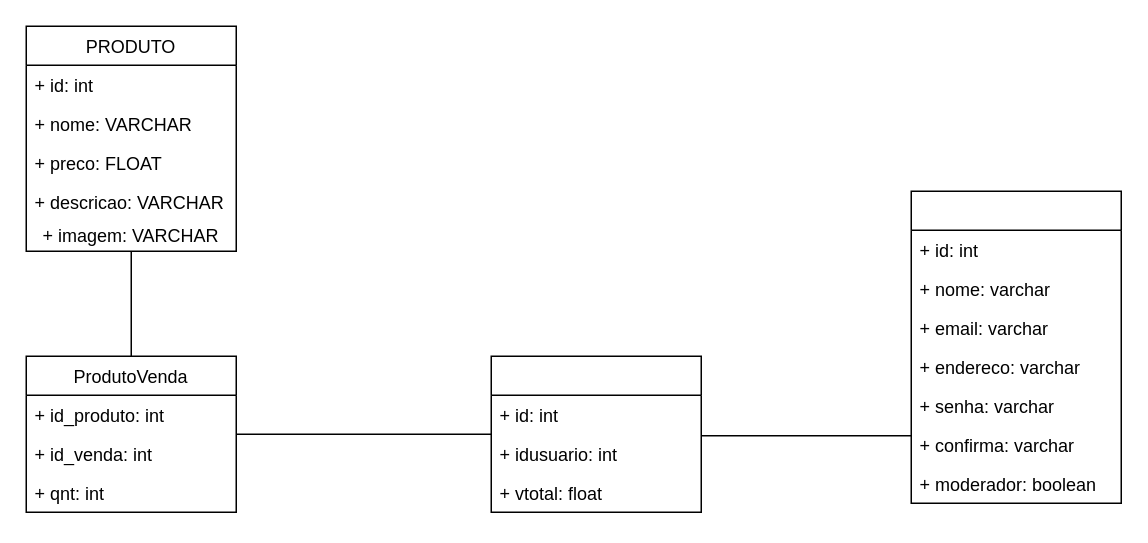
The diagram is 1148 pixels wide and 543 high, and some of its shapes have lost their labels. The box of each missing label's shape, as (x1, y1, x2, y2) in pixels:
Classname: (910, 190, 1121, 503)
venda: (490, 355, 701, 512)
